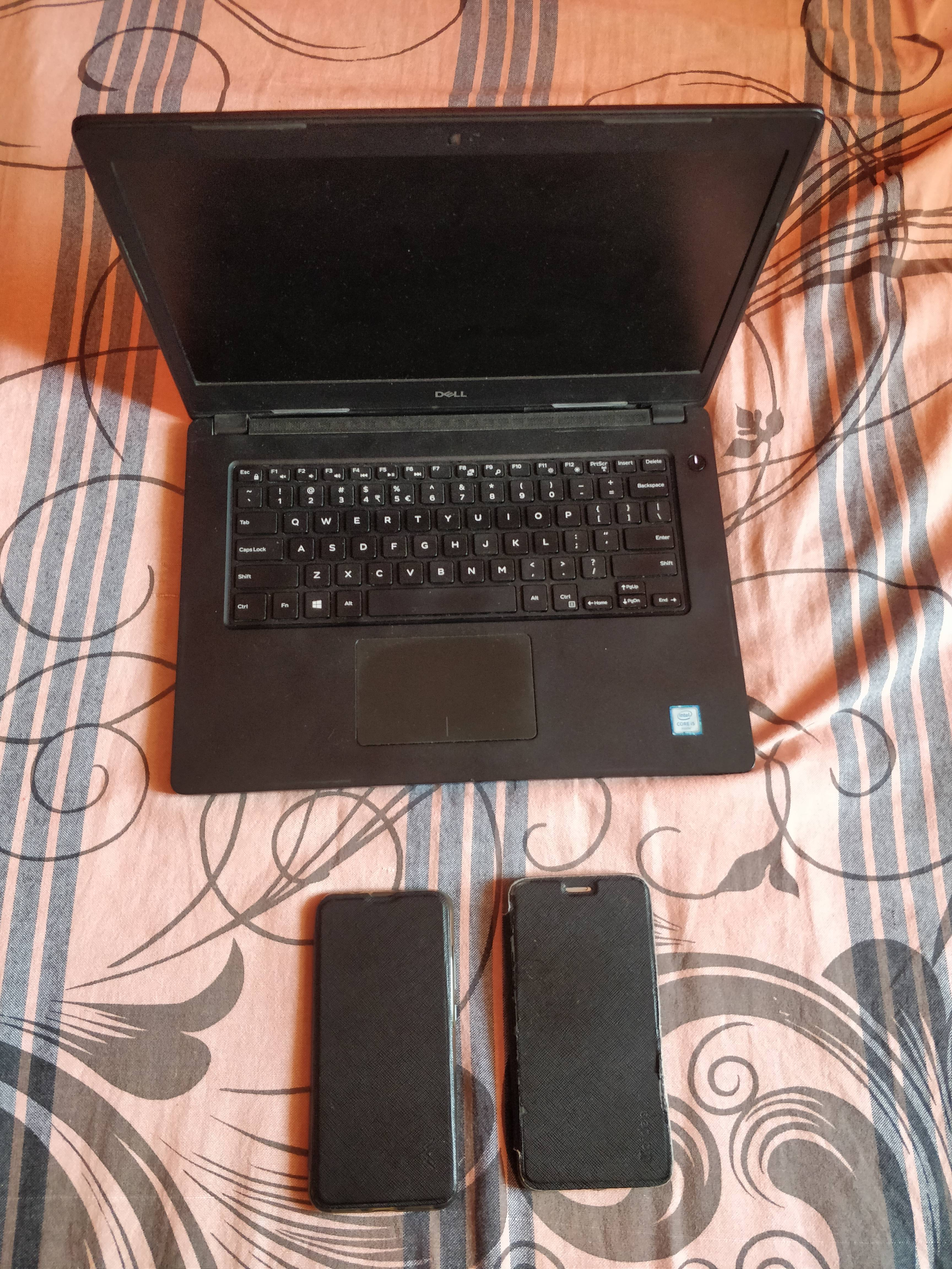Electronics: (56, 58, 894, 825), (473, 856, 687, 1221), (272, 861, 469, 1240)
